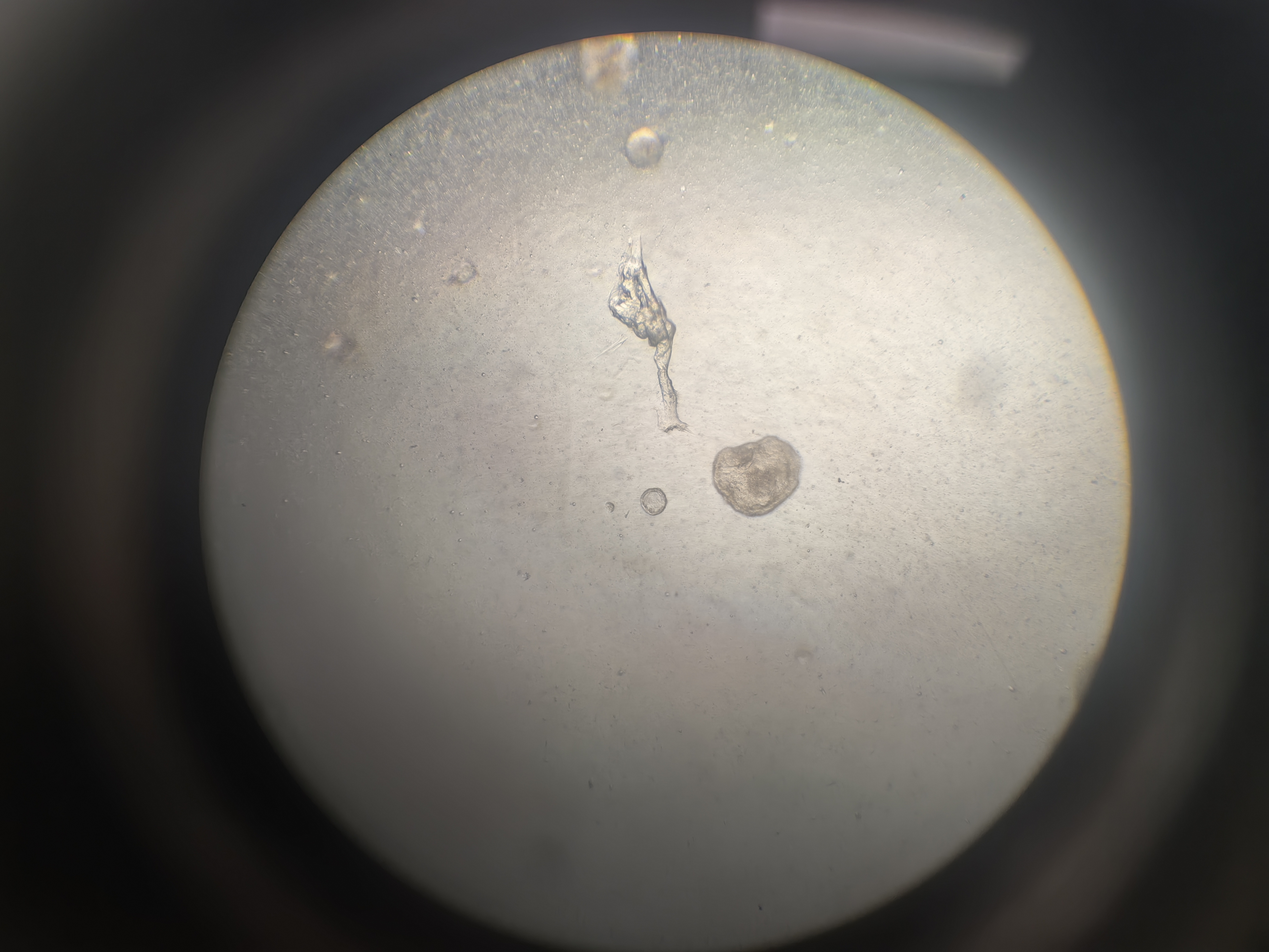organoid: (675, 464, 787, 593), (865, 417, 927, 498), (553, 435, 595, 473)
